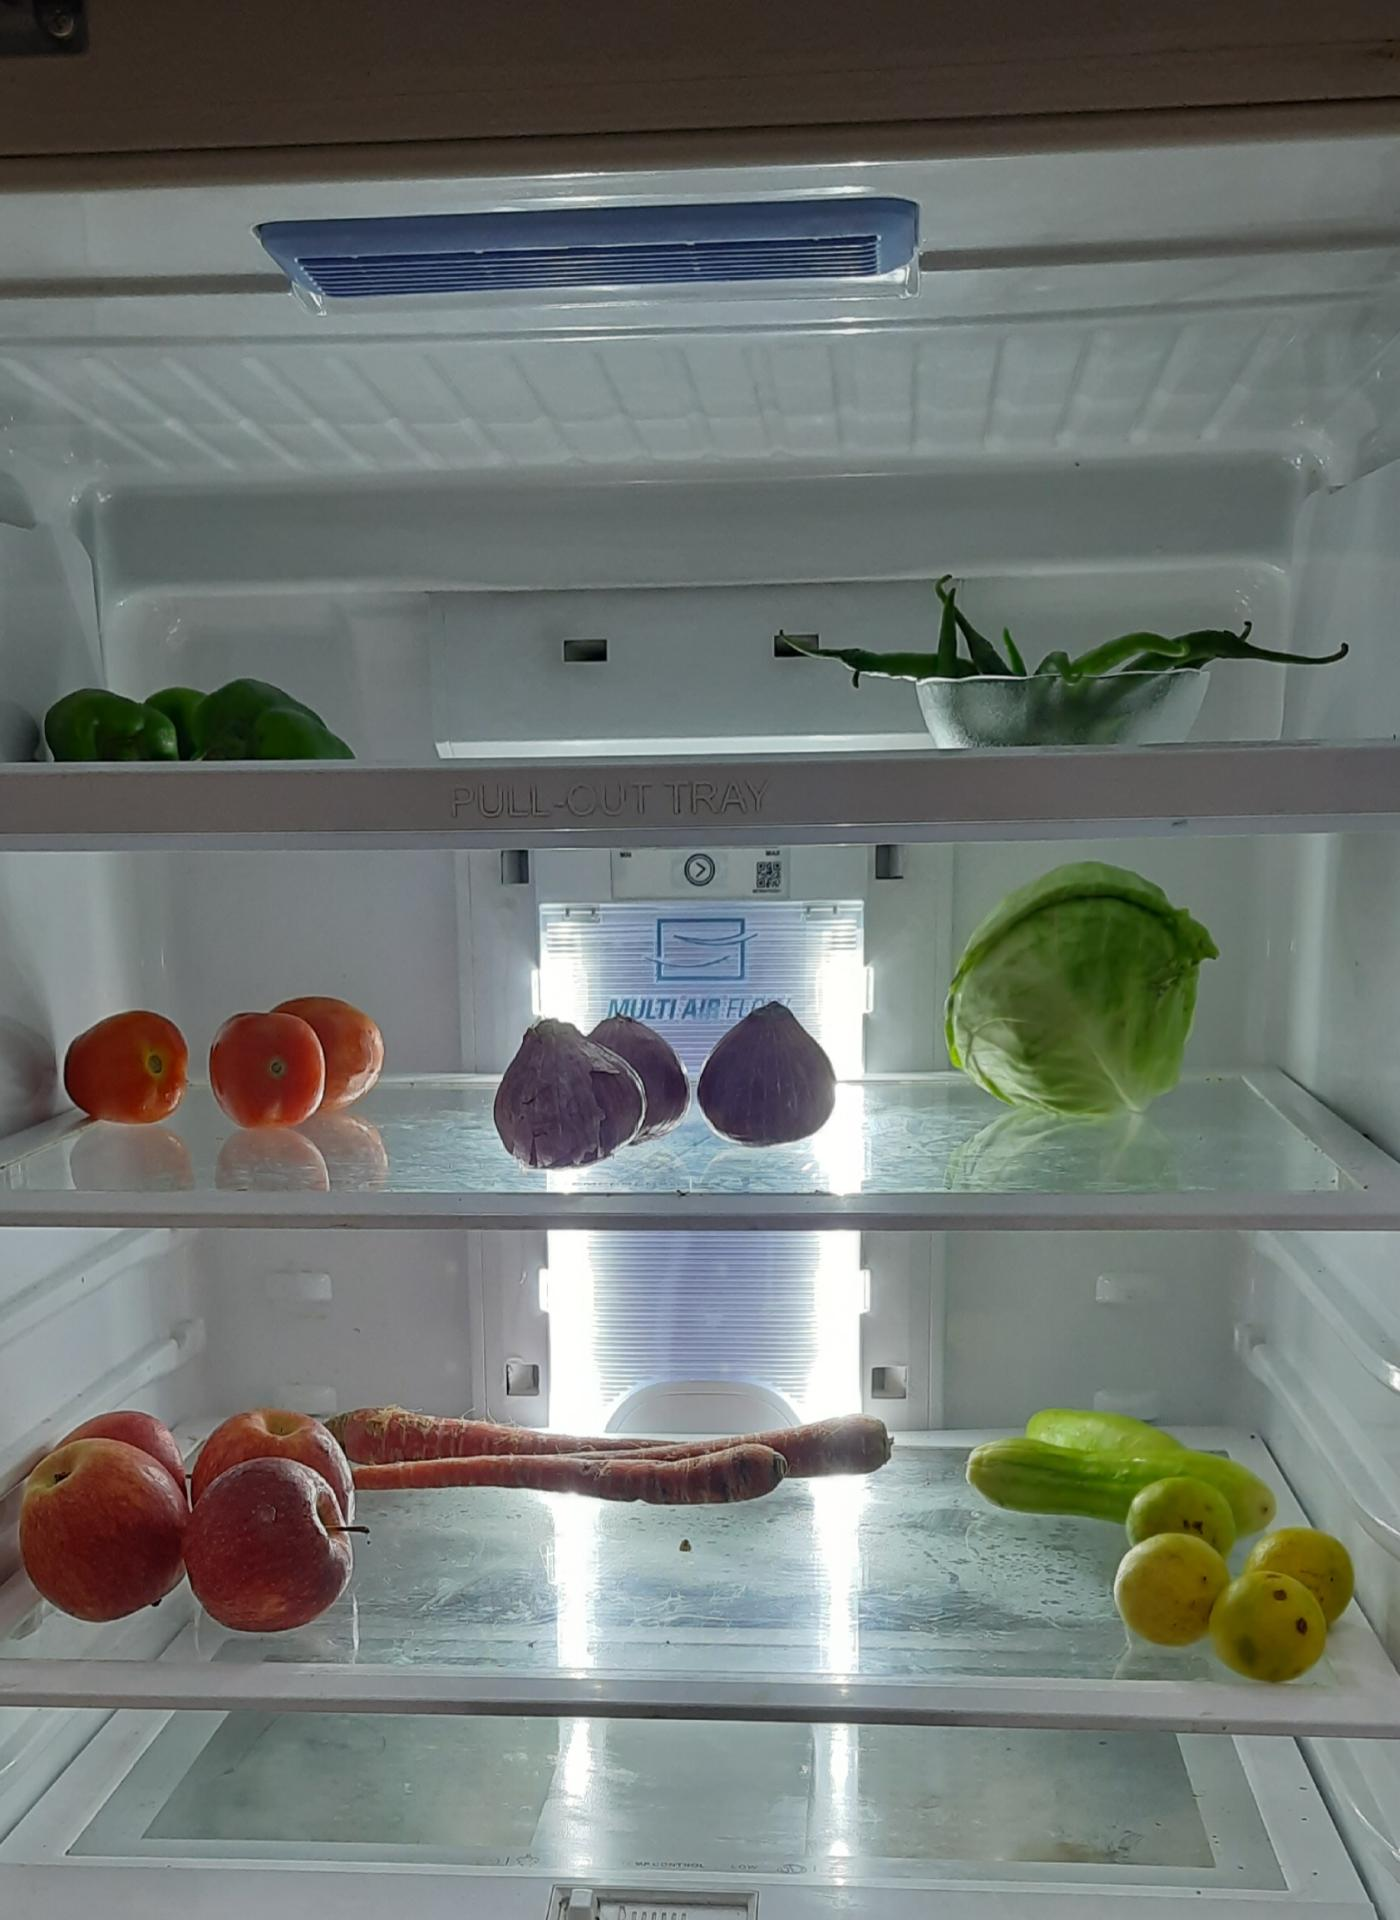apple: (28, 1403, 364, 1629)
cabbage: (936, 857, 1214, 1120)
capsicum: (39, 680, 367, 771)
carrots: (325, 1392, 890, 1501)
chillies: (842, 578, 1342, 741)
cucumber: (954, 1404, 1273, 1537)
lemon: (1108, 1468, 1361, 1683)
onion: (502, 991, 848, 1173)
tomato: (203, 985, 389, 1130), (60, 1000, 194, 1127)
